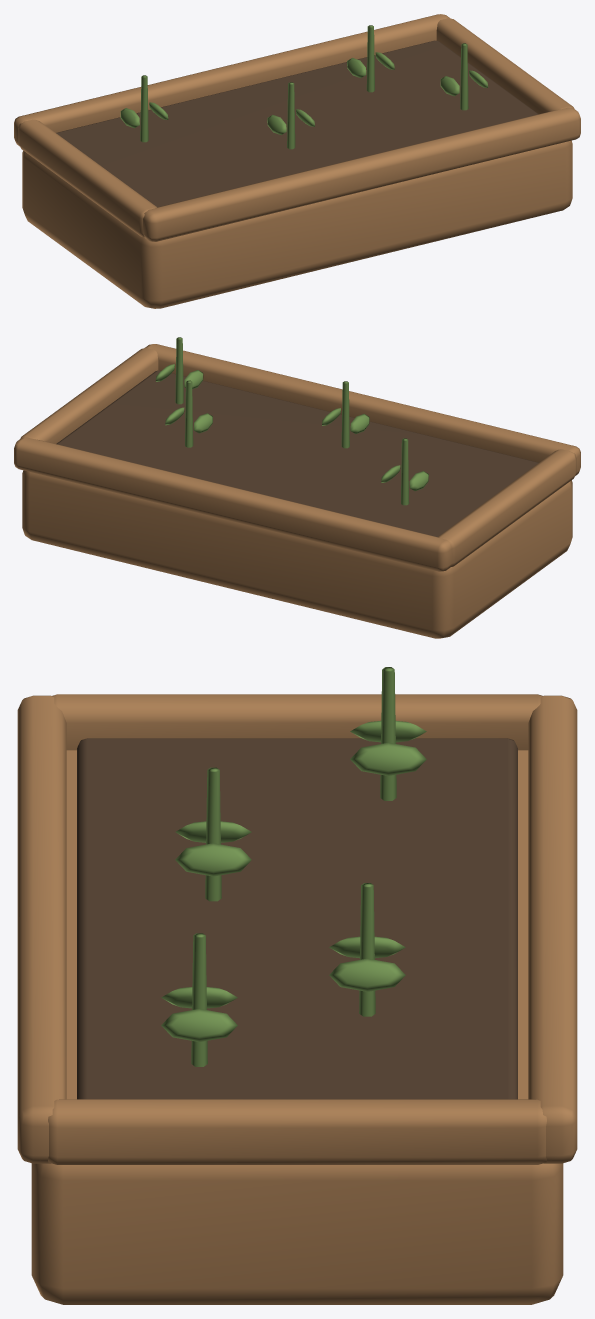
File: quest_flowerbed_empty.glb
The picture shows the model from 3 angles, top to bottom: view 1: azimuth 30°, elevation 25°; view 2: azimuth 150°, elevation 25°; view 3: azimuth 270°, elevation 25°; orthographic projection. The views are drawn at different scales.
Size of the model in its own units: 1.44 by 0.49 by 0.8.
